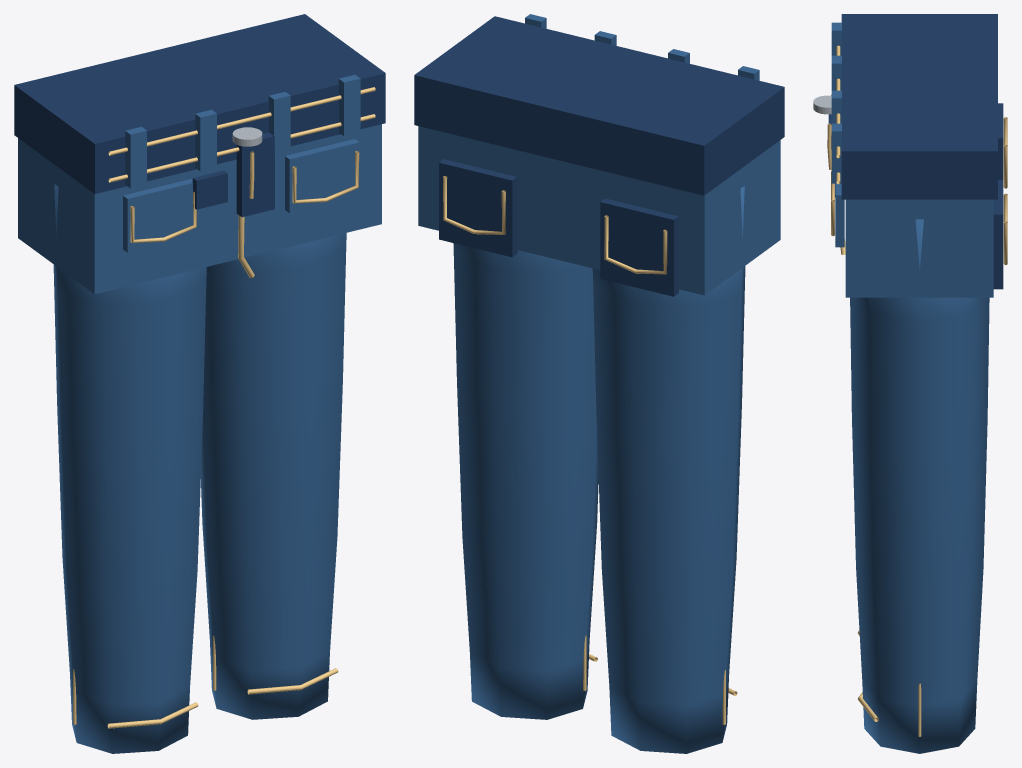
The model's file is pantalomezclilla.glb.
3 renders of one model, left to right at view 1: azimuth 30°, elevation 25°; view 2: azimuth 150°, elevation 25°; view 3: azimuth 270°, elevation 25°, orthographic. The views are drawn at different scales.
Parts seen in each view (by area): view 1: Pierna_Izquierda, Pierna_Derecha, Pretina, Cadera_Jeans, Bolsillo_Frontal_Derecho, Bolsillo_Frontal_Izquierdo, Tapeta_Cierre, Trabilla_4, Trabilla_1, Trabilla_2, Trabilla_3, Bolsillo_Relojero (+3 smaller); view 2: Pierna_Izquierda, Pierna_Derecha, Pretina, Cadera_Jeans, Bolsillo_Trasero_Izquierdo, Bolsillo_Trasero_Derecho, Costura_Trasera_Izquierdo, Costura_Trasera_Derecho; view 3: Pierna_Derecha, Pretina, Cadera_Jeans, Bolsillo_Trasero_Derecho, Trabilla_4, Bolsillo_Frontal_Derecho, Bolsillo_Trasero_Izquierdo, Trabilla_2, Costura_Trasera_Izquierdo, Costura_Trasera_Derecho, Trabilla_1, Trabilla_3.
Part boxes in pixels (x1,y1,x2,y2): Pierna_Izquierda: (53, 184, 206, 753); Pierna_Derecha: (201, 233, 346, 719); Pretina: (14, 14, 385, 193); Cadera_Jeans: (18, 124, 381, 293); Bolsillo_Frontal_Derecho: (285, 139, 359, 213); Bolsillo_Frontal_Izquierdo: (123, 178, 197, 252); Tapeta_Cierre: (236, 132, 274, 217); Trabilla_4: (338, 74, 360, 136); Trabilla_1: (125, 127, 146, 188); Trabilla_2: (195, 109, 216, 171); Trabilla_3: (268, 92, 290, 153); Bolsillo_Relojero: (192, 170, 227, 209); Pierna_Izquierda: (592, 185, 745, 753); Pierna_Derecha: (453, 243, 598, 719); Pretina: (414, 16, 784, 195); Cadera_Jeans: (418, 126, 780, 295); Bolsillo_Trasero_Izquierdo: (600, 198, 678, 296); Bolsillo_Trasero_Derecho: (439, 159, 517, 257); Costura_Trasera_Izquierdo: (604, 215, 667, 274); Costura_Trasera_Derecho: (443, 176, 505, 234); Pierna_Derecha: (850, 219, 989, 753); Pretina: (841, 14, 997, 199); Cadera_Jeans: (845, 199, 993, 297); Bolsillo_Trasero_Derecho: (993, 180, 1003, 289); Trabilla_4: (831, 123, 841, 183); Bolsillo_Frontal_Derecho: (835, 183, 844, 247); Bolsillo_Trasero_Izquierdo: (998, 103, 1003, 179); Trabilla_2: (831, 55, 841, 90); Costura_Trasera_Izquierdo: (1003, 117, 1007, 188); Costura_Trasera_Derecho: (1003, 193, 1007, 264); Trabilla_1: (831, 22, 841, 55); Trabilla_3: (831, 90, 841, 123).
Size of the model in its own units: 0.79 by 1.66 by 0.4728.
